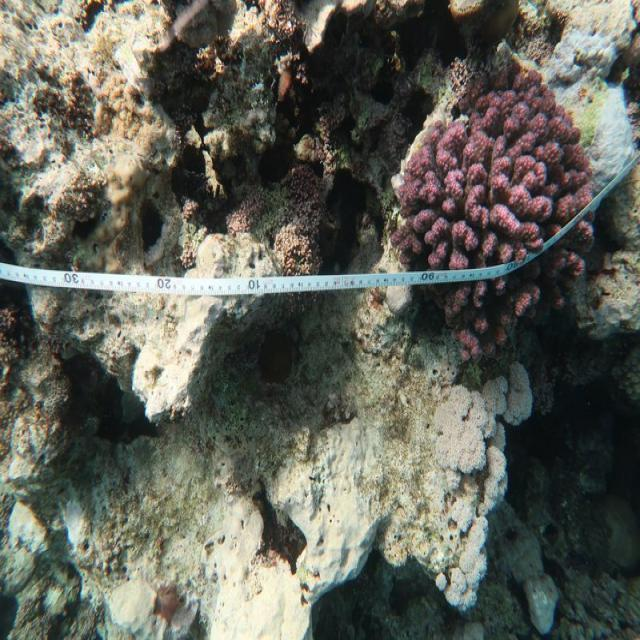Healthy Coral: (395, 68, 602, 361)
